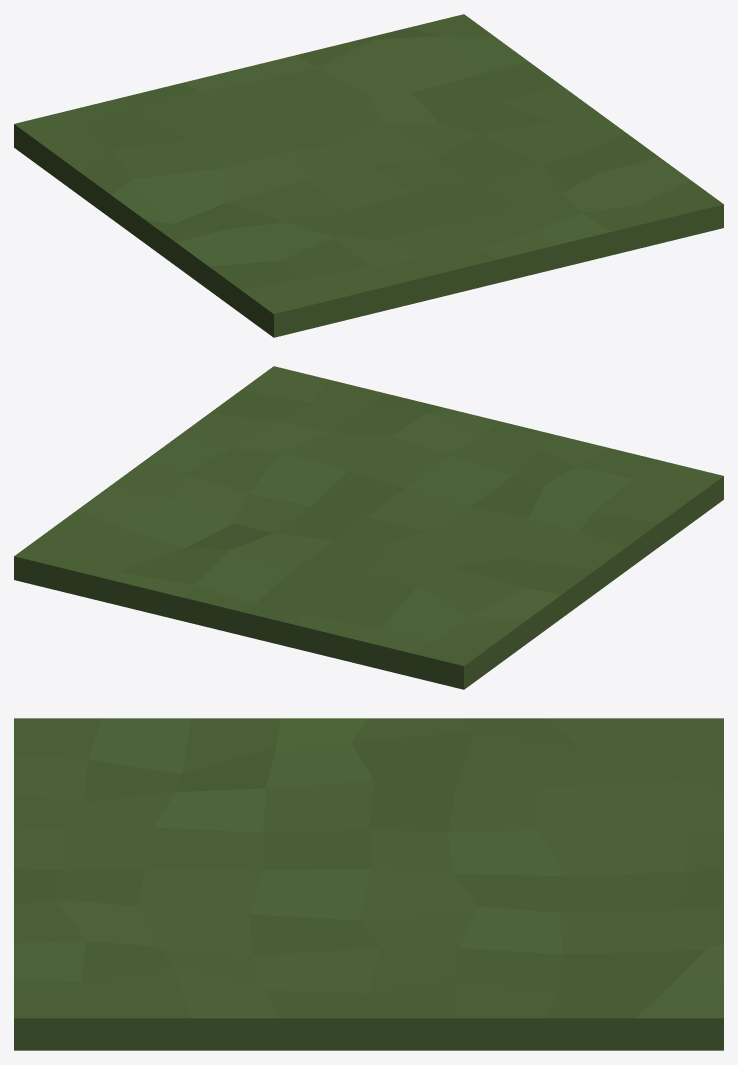
Rendered from ForestGround.fbx.
The picture shows the model from 3 angles, top to bottom: view 1: azimuth 30°, elevation 25°; view 2: azimuth 150°, elevation 25°; view 3: azimuth 270°, elevation 25°; orthographic projection. The views are drawn at different scales.
Visible parts, largest first — view 1: ForestGround; view 2: ForestGround; view 3: ForestGround.
Boxes of the visible parts, <box> form: ForestGround: <box>14,14,723,337</box>; ForestGround: <box>14,366,723,689</box>; ForestGround: <box>14,718,723,1050</box>.
Bounding box in the file's own units: 200 × 12.15 × 200.
Materials: 1 (1 with a texture image).
